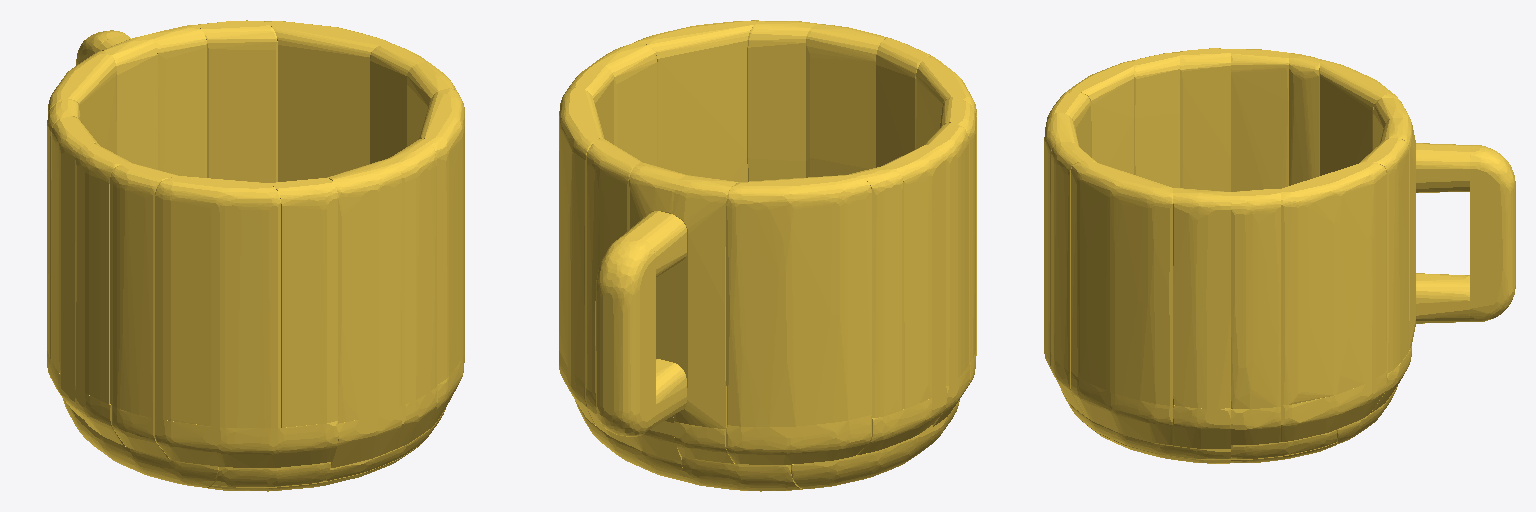
URDF robot description (346.urdf):
<?xml version="1.0" ?>
<robot name="346.urdf">
	<link name="baseLink">
		<inertial>
			<origin rpy="0 0 0" xyz="0 0 0"/>
				<mass value="0.1"/>
				<inertia ixx="6e-5" ixy="0" ixz="0" iyy="6e-5" iyz="0" izz="6e-5"/>
		</inertial>
		<visual>
			<origin rpy="0 0 0" xyz="0 0 0"/>
			<geometry>
				<mesh filename="34_decom_wt.obj" scale="0.97 0.97 0.95"/>
			</geometry>
			<material name="yellow">
				<color rgba="0.98 0.84 0.35 1"/>
			</material>
		</visual>
		<collision>
			<origin rpy="0 0 0" xyz="0 0 0"/>
			<geometry>
				<mesh filename="34_decom_wt.obj" scale="0.97 0.97 0.95"/>
			</geometry>
		</collision>
	</link>
</robot>

--- What the picture shows (computed from the rendered views, not written in the file) ---
The picture shows the robot from 3 angles, left to right: view 1: azimuth 30°, elevation 25°; view 2: azimuth 150°, elevation 25°; view 3: azimuth 270°, elevation 25°; orthographic projection.
Robot: 346.urdf — 1 links, 0 joints (none); root link baseLink; default pose: every joint at zero.
Links seen in each view (by area): view 1: baseLink; view 2: baseLink; view 3: baseLink.
Boxes of the visible links, x1,y1,x2,y2 form: baseLink: [47, 20, 464, 491]; baseLink: [559, 20, 976, 491]; baseLink: [1044, 48, 1515, 463].
Bounding box of the posed robot: 0.0976 × 0.1247 × 0.0814 m (x, y, z).
Meshes: 1 distinct files referenced, 1 mesh visuals loaded (1 OBJ).